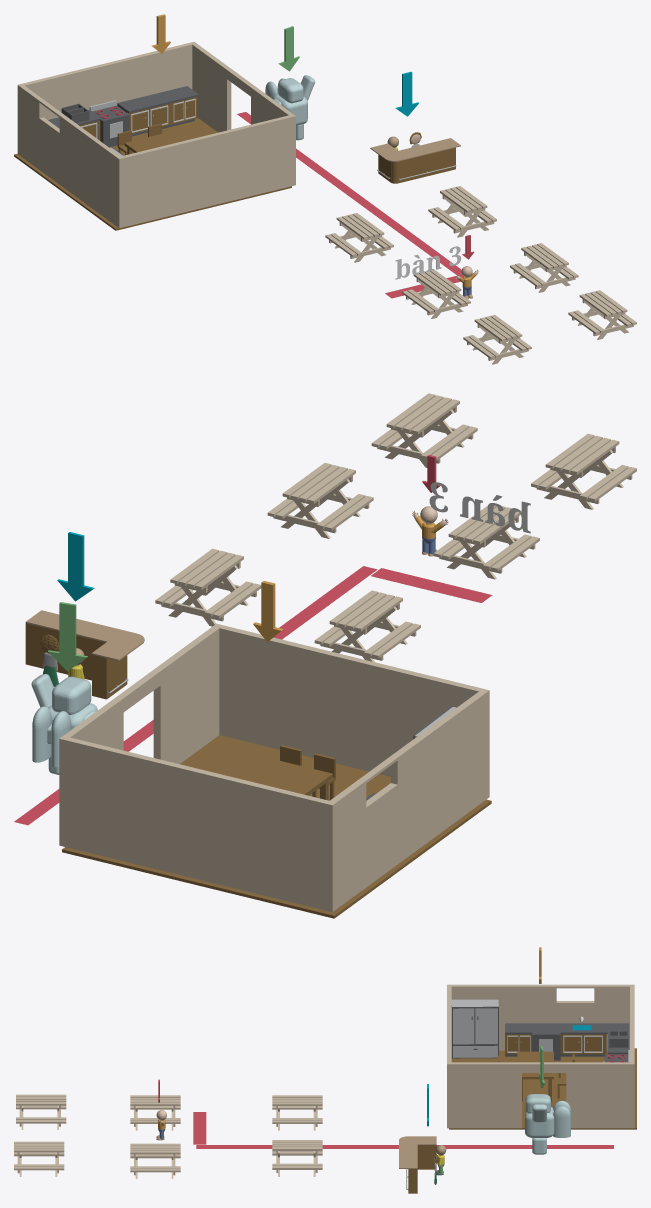
File: map3.glb
3 views of the same model, one above another, from view 1: azimuth 30°, elevation 25°; view 2: azimuth 150°, elevation 25°; view 3: azimuth 270°, elevation 25° (orthographic). The views are drawn at different scales.
Parts seen in each view (by area): view 1: Mesh_Mesh_head_geo.001_lambert2SG.001; view 2: Mesh_Mesh_head_geo.001_lambert2SG.001; view 3: Mesh_Mesh_head_geo.001_lambert2SG.001.
Part boxes in pixels (bbox=[...]): Mesh_Mesh_head_geo.001_lambert2SG.001: bbox=[14, 14, 636, 364]; Mesh_Mesh_head_geo.001_lambert2SG.001: bbox=[14, 393, 636, 918]; Mesh_Mesh_head_geo.001_lambert2SG.001: bbox=[14, 947, 636, 1193].
Size of the model in its own units: 0.3613 by 0.169 by 0.6629.
